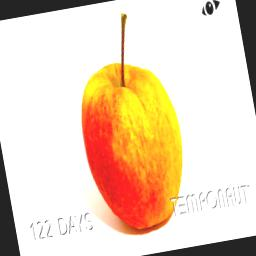Apple Unripe: (59, 0, 198, 241)
